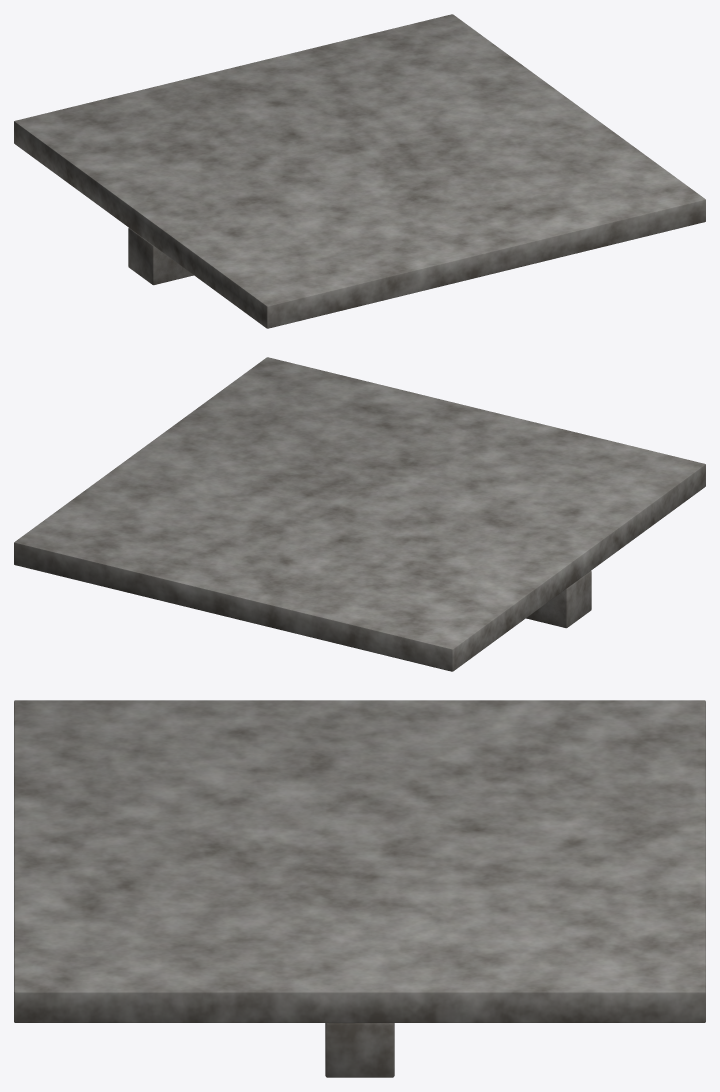
The model's file is g67_pz_ceil_beam.glb.
3 renders of one model, top to bottom at view 1: azimuth 30°, elevation 25°; view 2: azimuth 150°, elevation 25°; view 3: azimuth 270°, elevation 25°, orthographic. The views are drawn at different scales.
Visible parts, largest first — view 1: g67_pz_ceil_beam; view 2: g67_pz_ceil_beam; view 3: g67_pz_ceil_beam.
Part boxes in pixels (x1,y1,x2,y2): g67_pz_ceil_beam: (14,14,705,328); g67_pz_ceil_beam: (14,357,705,671); g67_pz_ceil_beam: (14,700,705,1077).
Bounding box in the file's own units: 4 × 0.55 × 4.
1 material, 1 textured.
